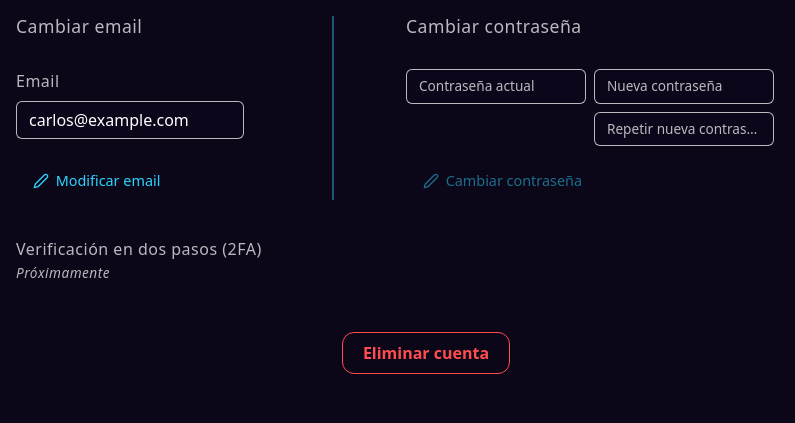
Test: EmailPasswordPanel › cambio de contraseña con éxito muestra el mensaje de confirmación
Expected: the field showing "carlos@example.com" is shown, [16,101,244,139]
In the password field labelled "Contraseña actual": (496, 86) [406,69,586,104], type "actual123"
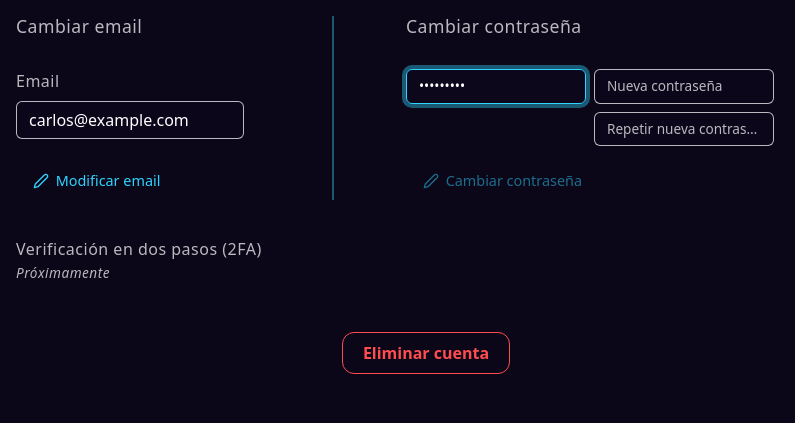
In the password field labelled "Nueva contraseña": (684, 86) [594,69,774,104], type "nuevaPassword123"
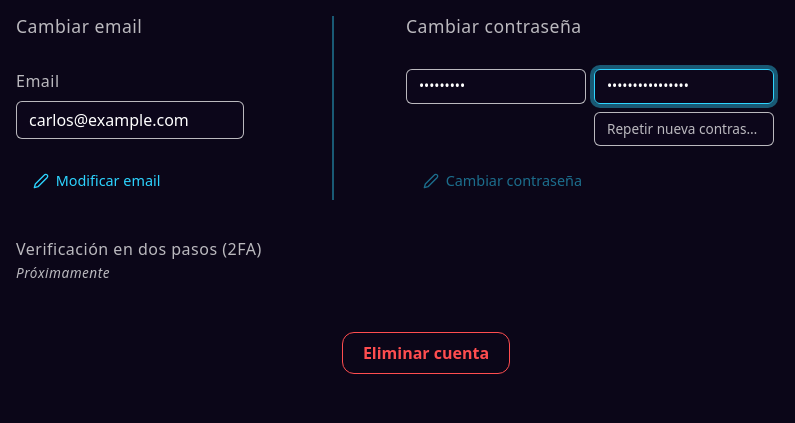
In the password field labelled "Repetir nueva contraseña": (684, 129) [594,112,774,146], type "nuevaPassword123"
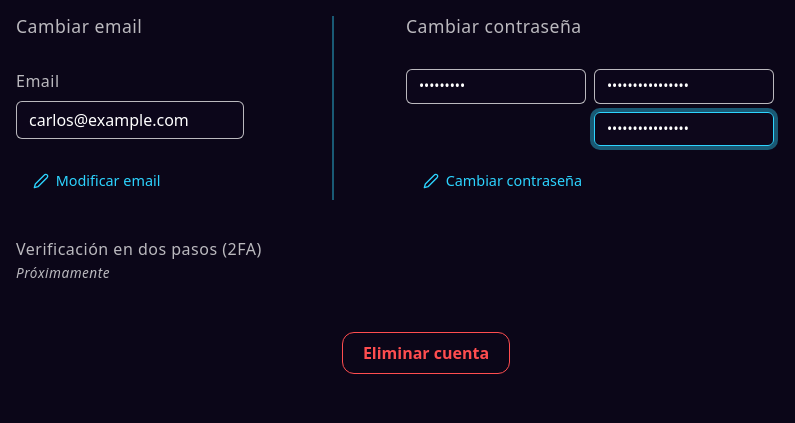
Click the button "Cambiar contraseña": (503, 177) [406,154,599,200]
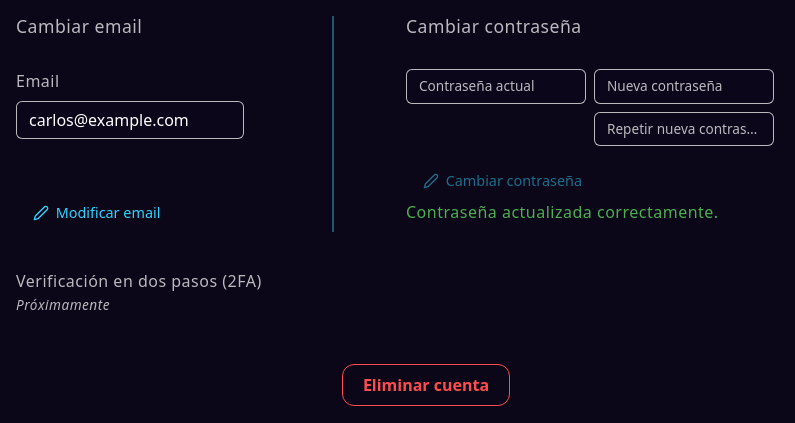
Expected: the message shows "actualizada correctamente", [406,201,719,223]
